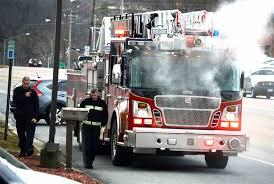smoke: (132, 0, 274, 115)
